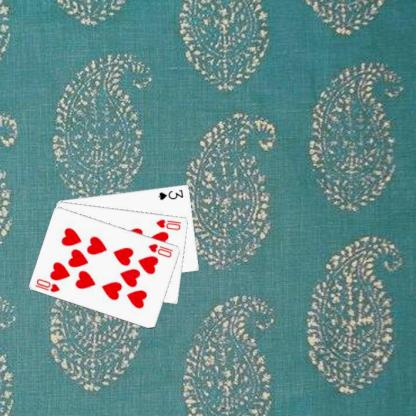10H: (33, 275, 61, 294), (146, 241, 174, 258), (154, 216, 182, 231)
3S: (156, 187, 184, 201)
